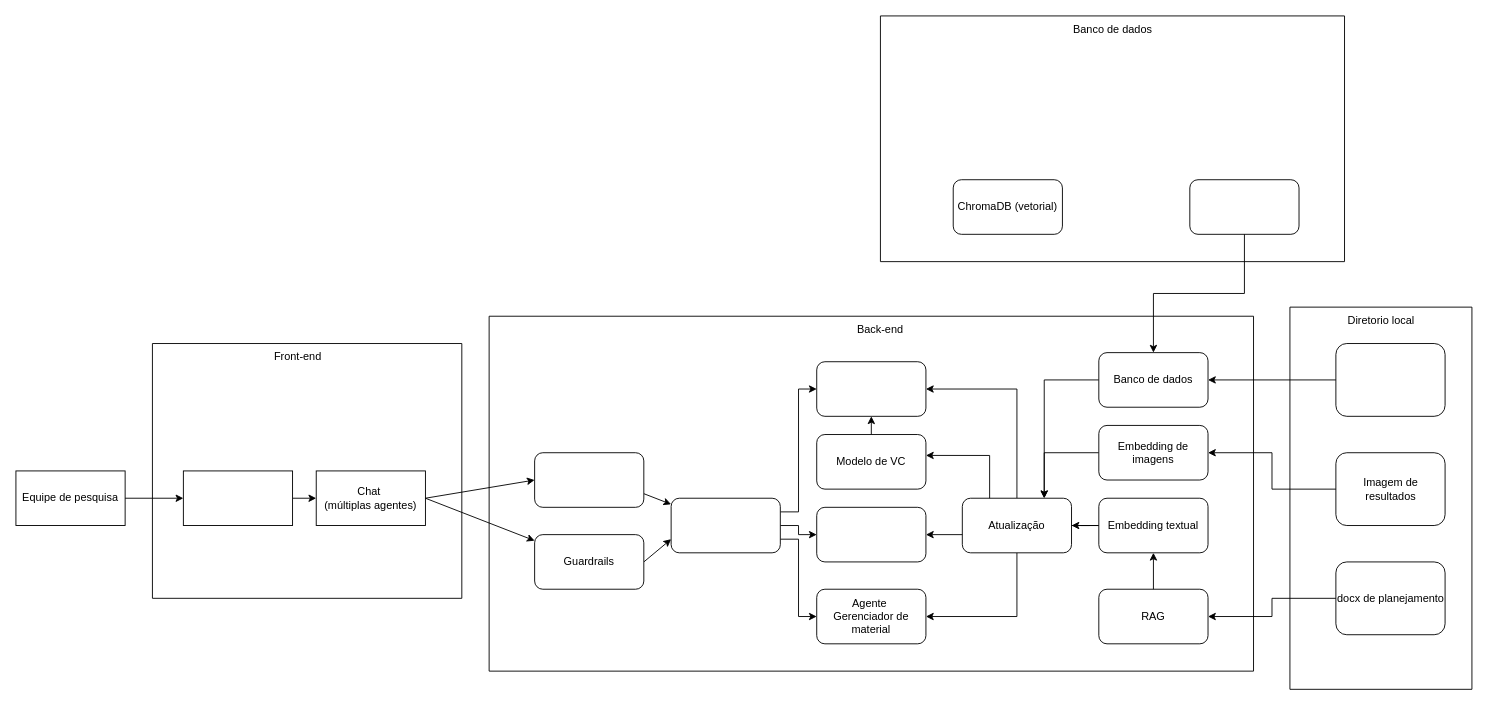
The diagram is 1488 pixels wide and 705 high, and some of its shapes have lost their labels. The shapes that lost their labels are listed below. From the top down, each one's centre as x and y in pixels, then its label:
the point at 1244,206: Supabase (relacional/Postgre)
the point at 871,388: Agente Redator técnico
the point at 1390,379: xlsx de resultados
the point at 237,498: Login
the point at 589,479: Anonimização de dados
the point at 725,525: Direcionamento
the point at 871,534: Agente Analista de dados
